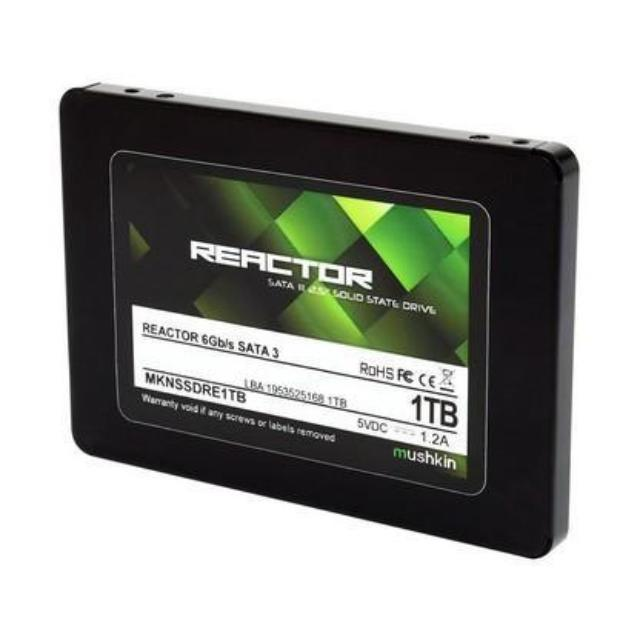DISK: (59, 72, 586, 563)
